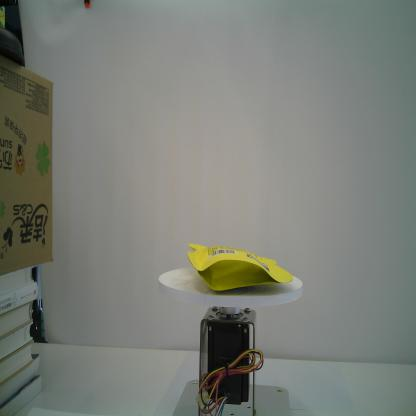Dried Fruit: (186, 238, 296, 292)
